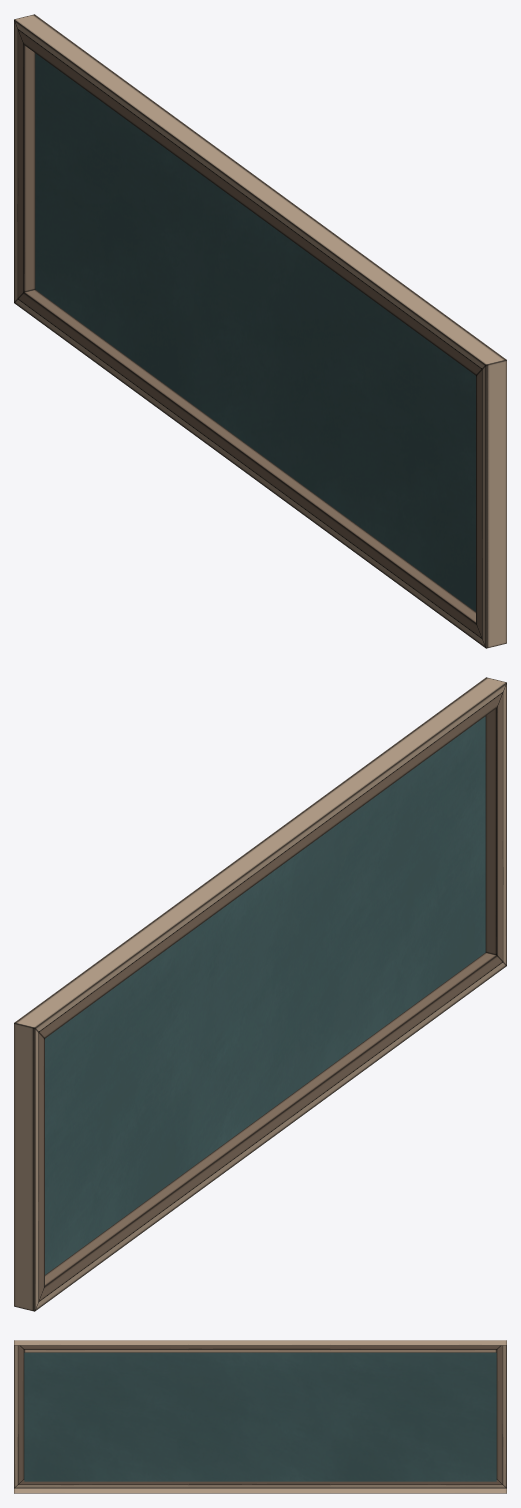
The model's file is noticeBoard4.fbx.
The picture shows the model from 3 angles, top to bottom: view 1: azimuth 30°, elevation 25°; view 2: azimuth 150°, elevation 25°; view 3: azimuth 270°, elevation 25°; orthographic projection. The views are drawn at different scales.
Visible parts, largest first — view 1: polySurface184; view 2: polySurface184; view 3: polySurface184.
Part boxes in pixels (x1=…): polySurface184: x1=14, y1=14, x2=506, y2=648; polySurface184: x1=14, y1=677, x2=506, y2=1311; polySurface184: x1=14, y1=1340, x2=506, y2=1493.
Bounding box in the file's own units: 0.1195 × 1.56 × 4.69.
